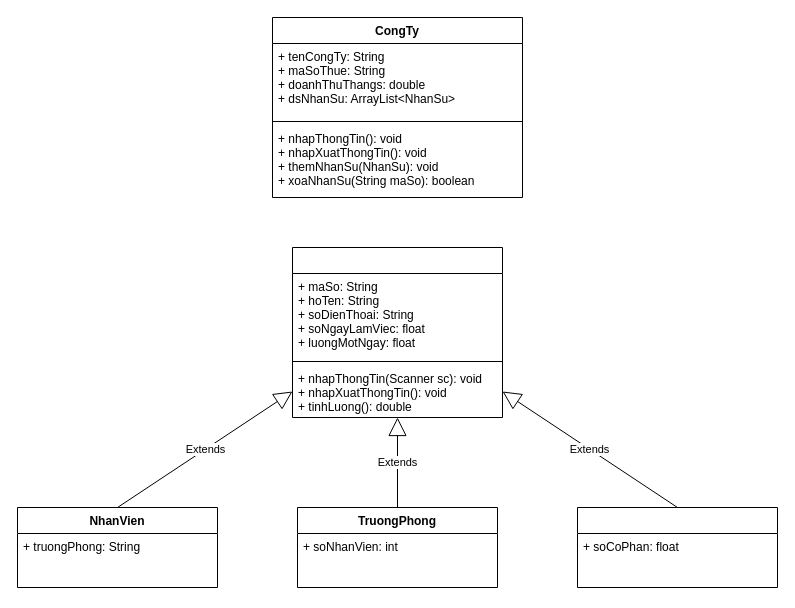
Image size: 795x608. Some labels were removed from this diagram. The box of each missing label's shape, as (x1, y1, x2, y2) in pixels:
GiamDoc: (576, 506, 778, 588)
NhanSu: (292, 246, 502, 418)
